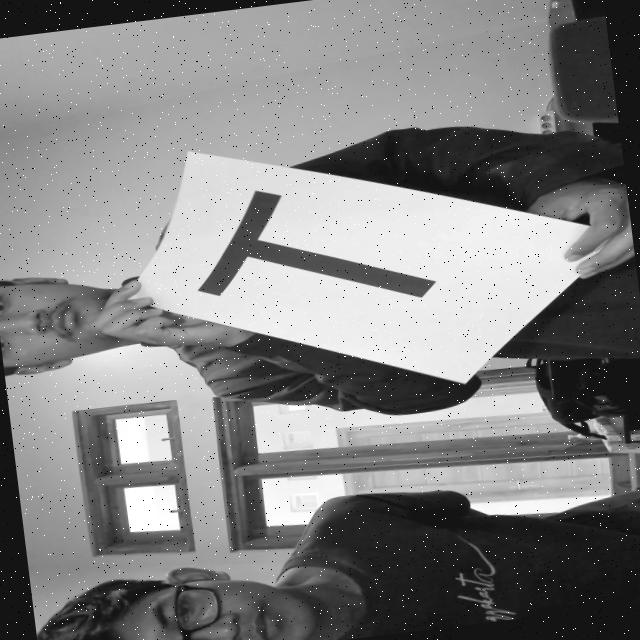t: (154, 156, 464, 327)
